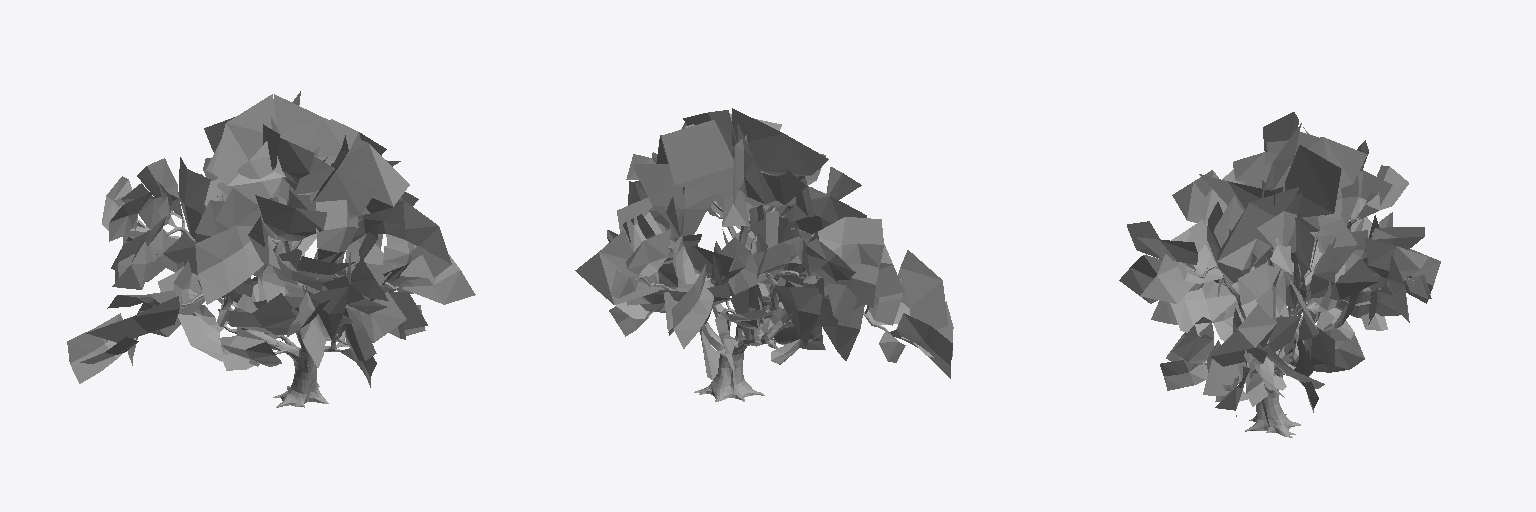
The model's file is tree_oak.obj.
The picture shows the model from 3 angles: view 1: azimuth 30°, elevation 25°; view 2: azimuth 150°, elevation 25°; view 3: azimuth 270°, elevation 25°; orthographic projection.
Bounding box in the file's own units: 23.67 × 17.99 × 17.66.